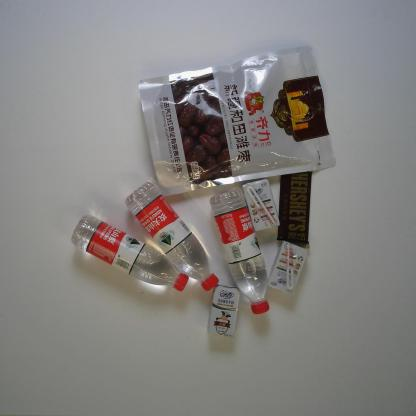Chocolate: (274, 148, 317, 247)
Dried Food: (135, 44, 339, 204)
Drink: (124, 182, 221, 294), (69, 214, 190, 293), (207, 185, 271, 317)
Milk: (265, 240, 310, 295), (240, 177, 282, 235), (205, 281, 242, 339)
